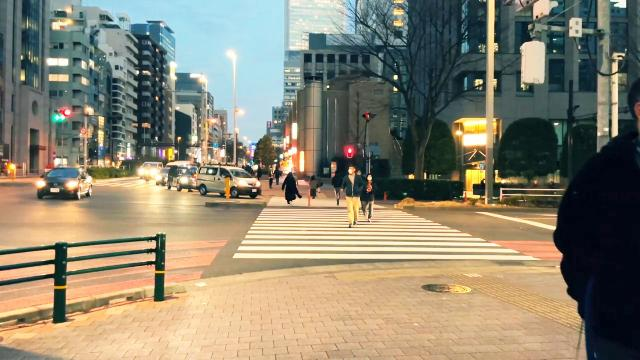berjalan: (554, 76, 640, 360), (340, 164, 366, 228), (360, 173, 378, 222)
